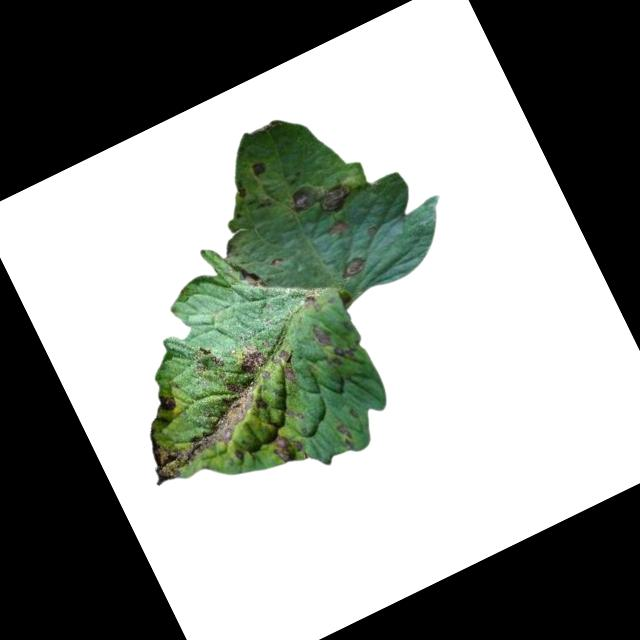Early_blight: (119, 341, 299, 490), (284, 166, 357, 231), (269, 344, 304, 388), (267, 428, 302, 468), (307, 318, 336, 350), (338, 255, 368, 282), (323, 215, 349, 240), (246, 157, 268, 181)
